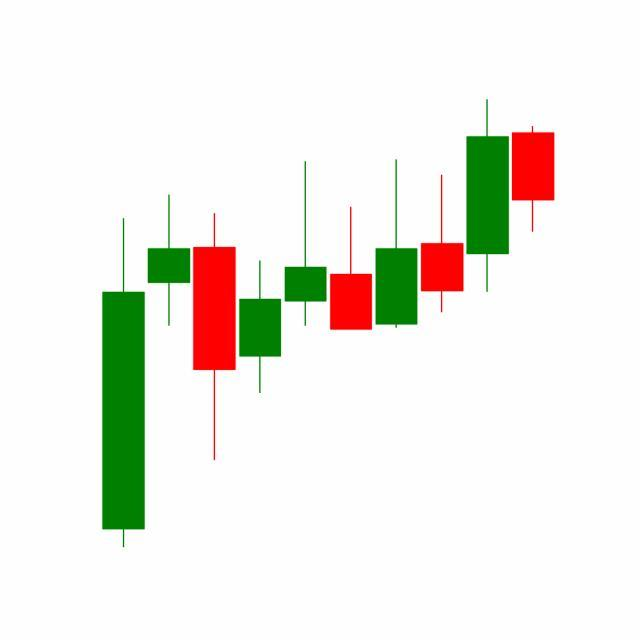Hikkake Pattern: (283, 100, 512, 334)
